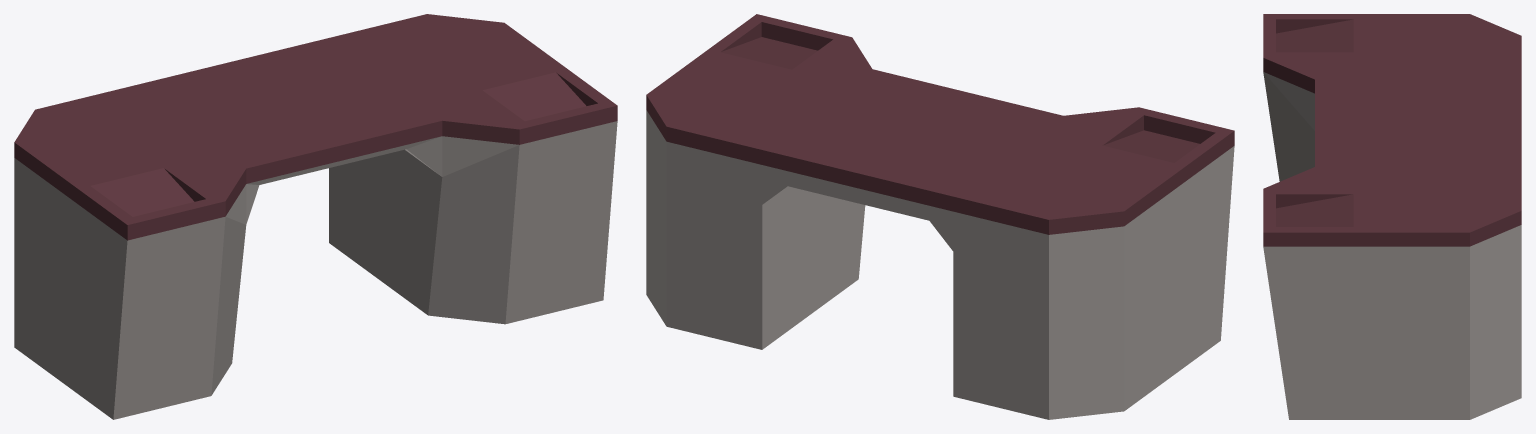
The model's file is scifi-table.fbx.
The picture shows the model from 3 angles, left to right: view 1: azimuth 30°, elevation 25°; view 2: azimuth 150°, elevation 25°; view 3: azimuth 270°, elevation 25°; orthographic projection. The views are drawn at different scales.
Visible parts, largest first — view 1: scifi-table; view 2: scifi-table; view 3: scifi-table.
Part boxes in pixels (left/top/right/bottom): scifi-table: left=14, top=14, right=617, bottom=419; scifi-table: left=646, top=14, right=1234, bottom=419; scifi-table: left=1263, top=14, right=1521, bottom=419.
Size of the model in its own units: 2 by 0.8 by 1.
